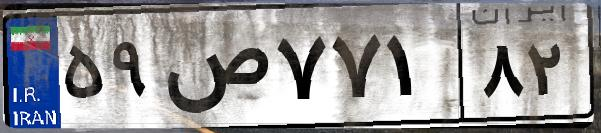1: (385, 28, 445, 110)
2: (525, 38, 570, 115)
5: (57, 26, 110, 100)
7: (270, 28, 330, 110), (330, 28, 385, 110)
8: (475, 38, 525, 113)
9: (110, 28, 158, 98)
ص: (158, 20, 270, 120)
